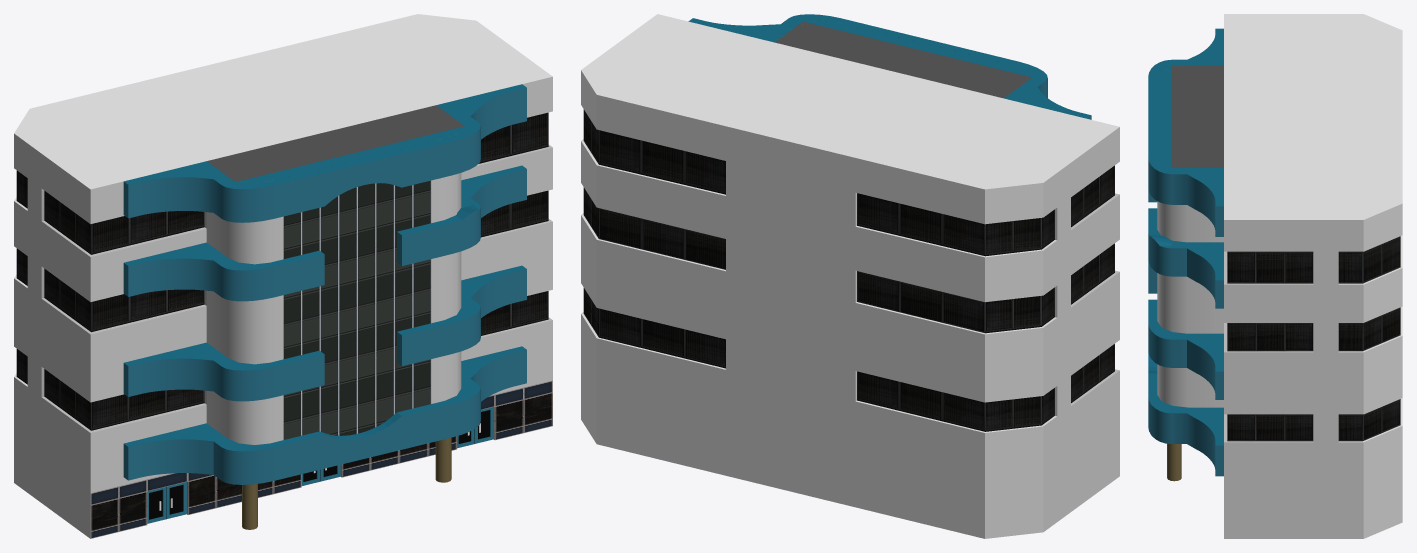
The picture shows the model from 3 angles, left to right: view 1: azimuth 30°, elevation 25°; view 2: azimuth 150°, elevation 25°; view 3: azimuth 270°, elevation 25°; orthographic projection. The views are drawn at different scales.
Visible parts, largest first — view 1: BC-068; view 2: BC-068; view 3: BC-068.
Boxes of the visible parts, left/top/right/bottom form: BC-068: left=14, top=14, right=552, bottom=538; BC-068: left=581, top=14, right=1119, bottom=538; BC-068: left=1148, top=14, right=1402, bottom=538.
Size of what is drawn, in the model's own units: 36 by 26 by 18.81.
